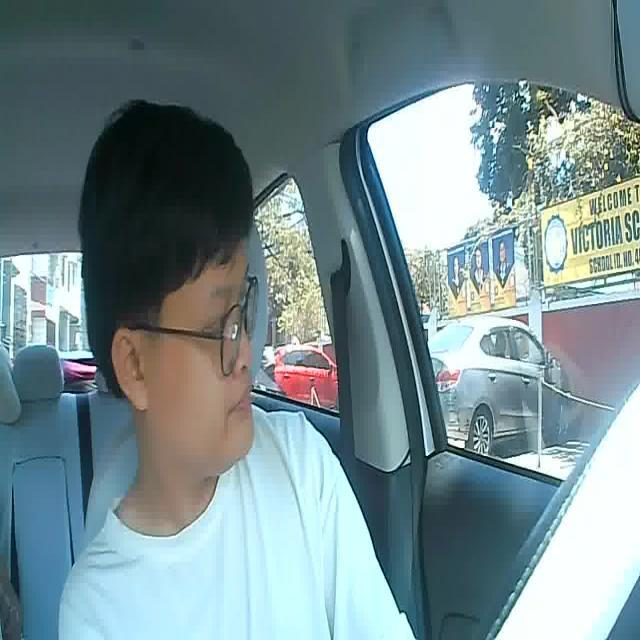Eye-Open: (208, 311, 230, 336), (235, 290, 252, 309)
Inattentive: (76, 97, 260, 483)
Normal: (230, 382, 252, 418)
